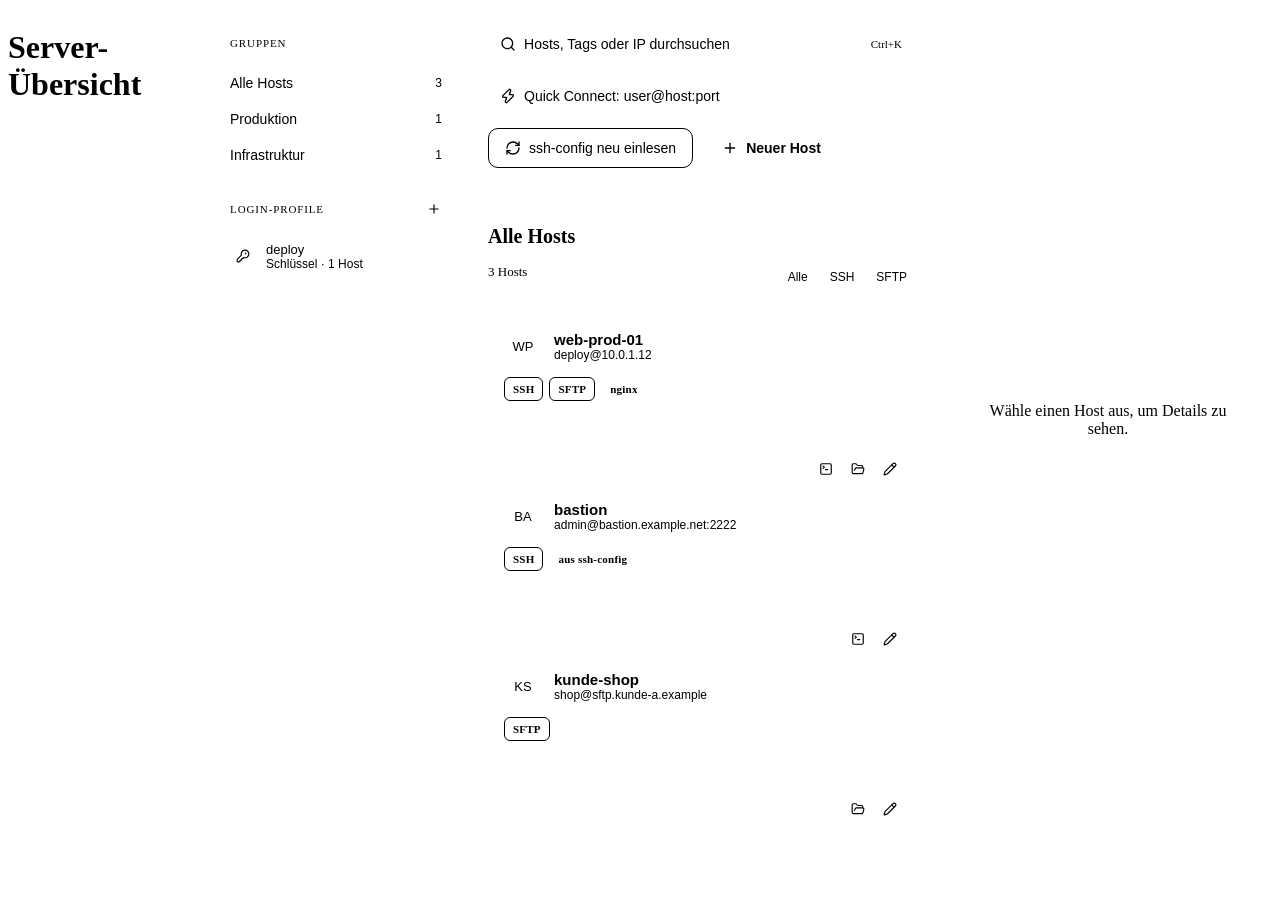
Test: HostsScreen › opens SFTP from the card and from the details, only for SFTP hosts
Step 1. Click the button named "Dateien öffnen" below "nginx" → {"x": 858, "y": 469}, box [844,455,872,483]
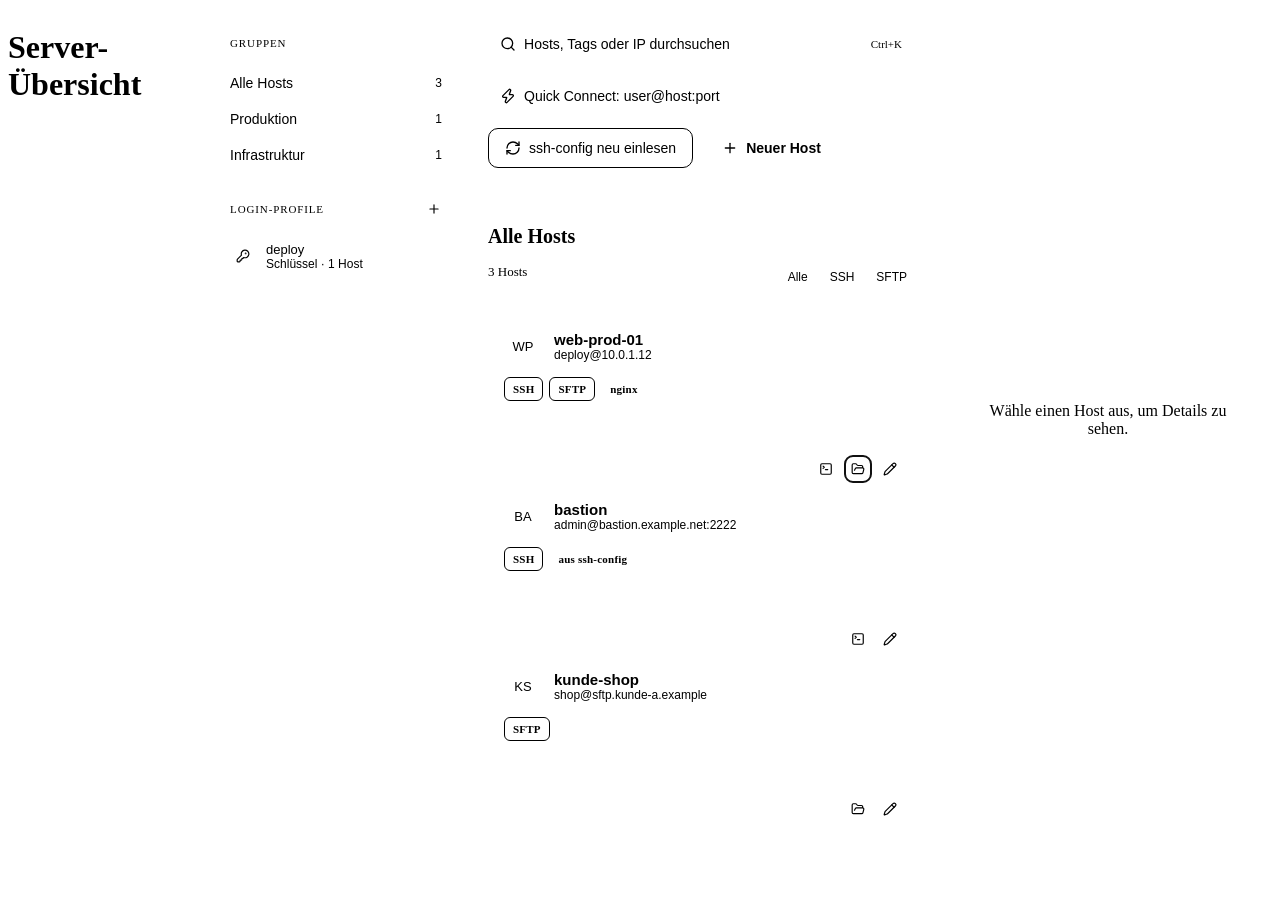
Step 2. Click the button with aria-label "web-prod-01 auswählen" → {"x": 599, "y": 339}, box [504,327,904,365]
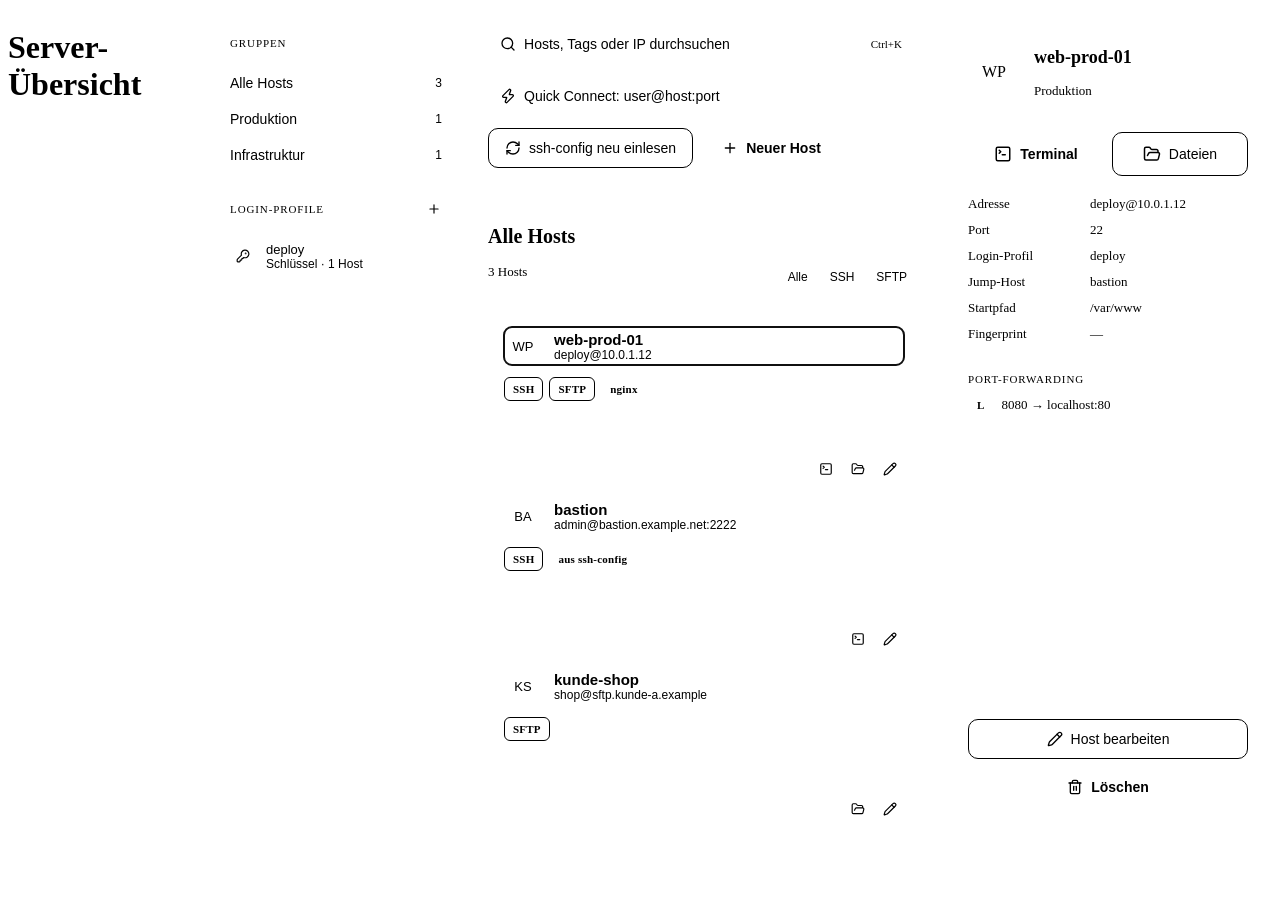
Step 3. Click the button "Dateien" → {"x": 1180, "y": 154}, box [1112,132,1248,176]
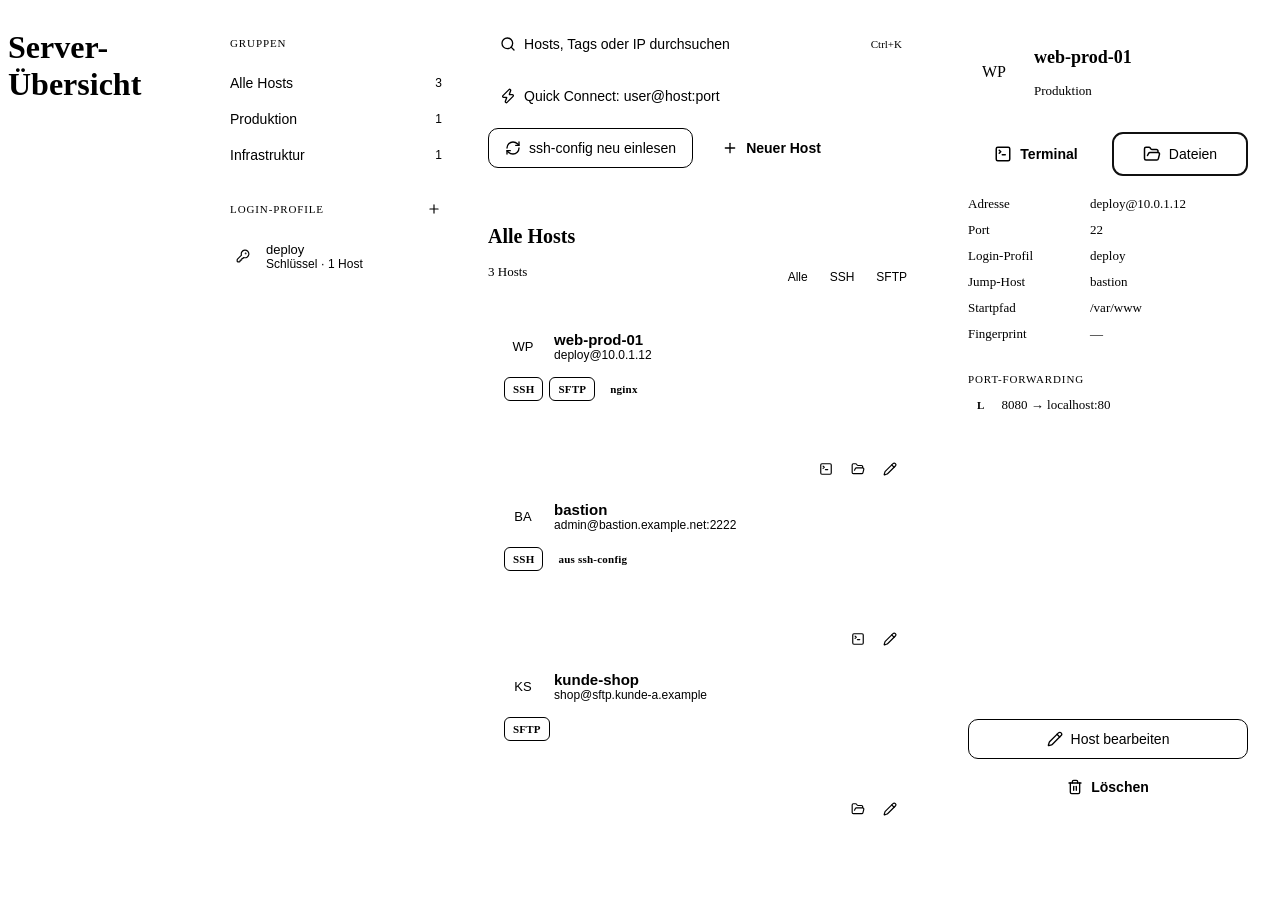
Step 4. Click the button with aria-label "bastion auswählen" → {"x": 704, "y": 516}, box [504,497,904,535]
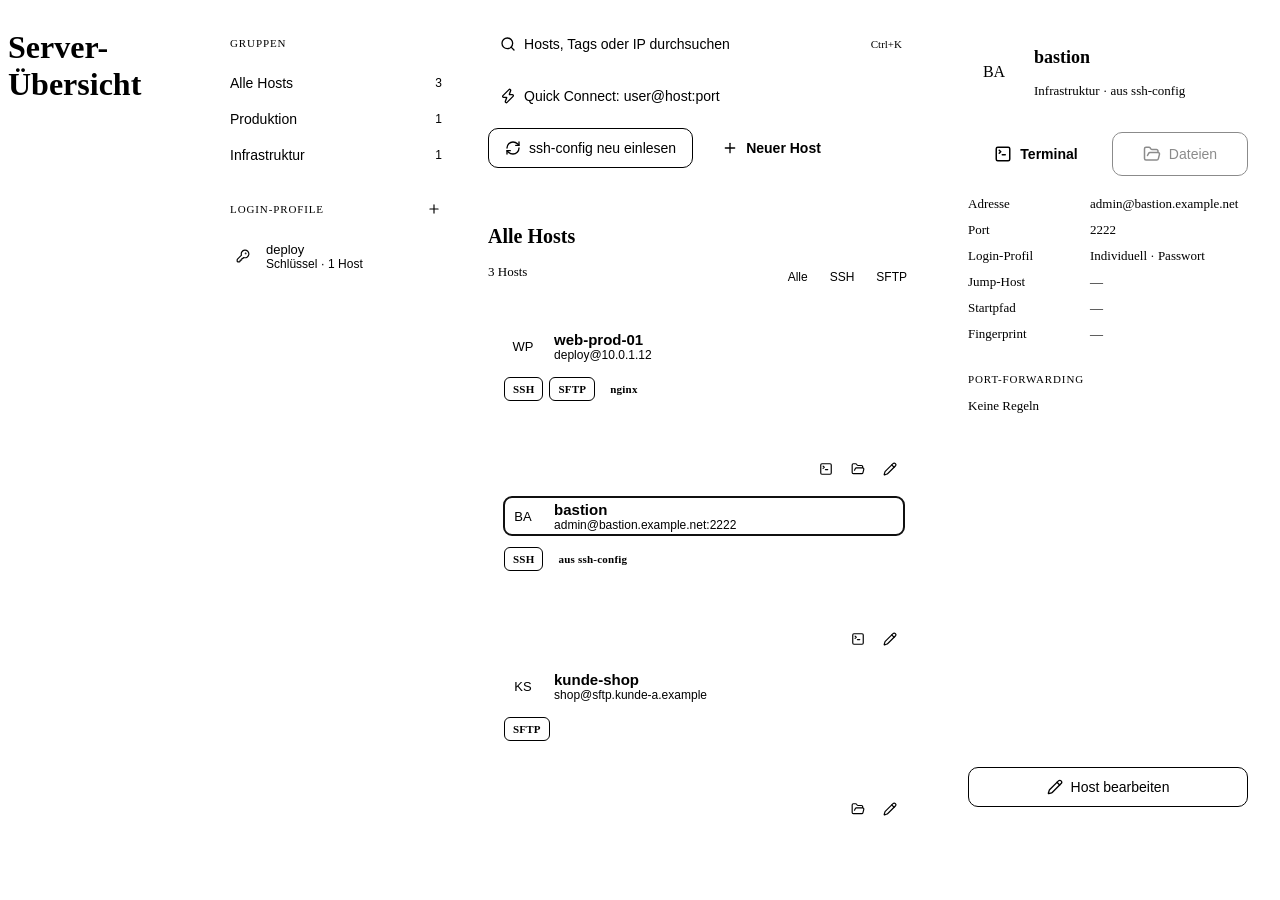
Check: the button "Dateien" is disabled, box [1112,132,1248,176]
